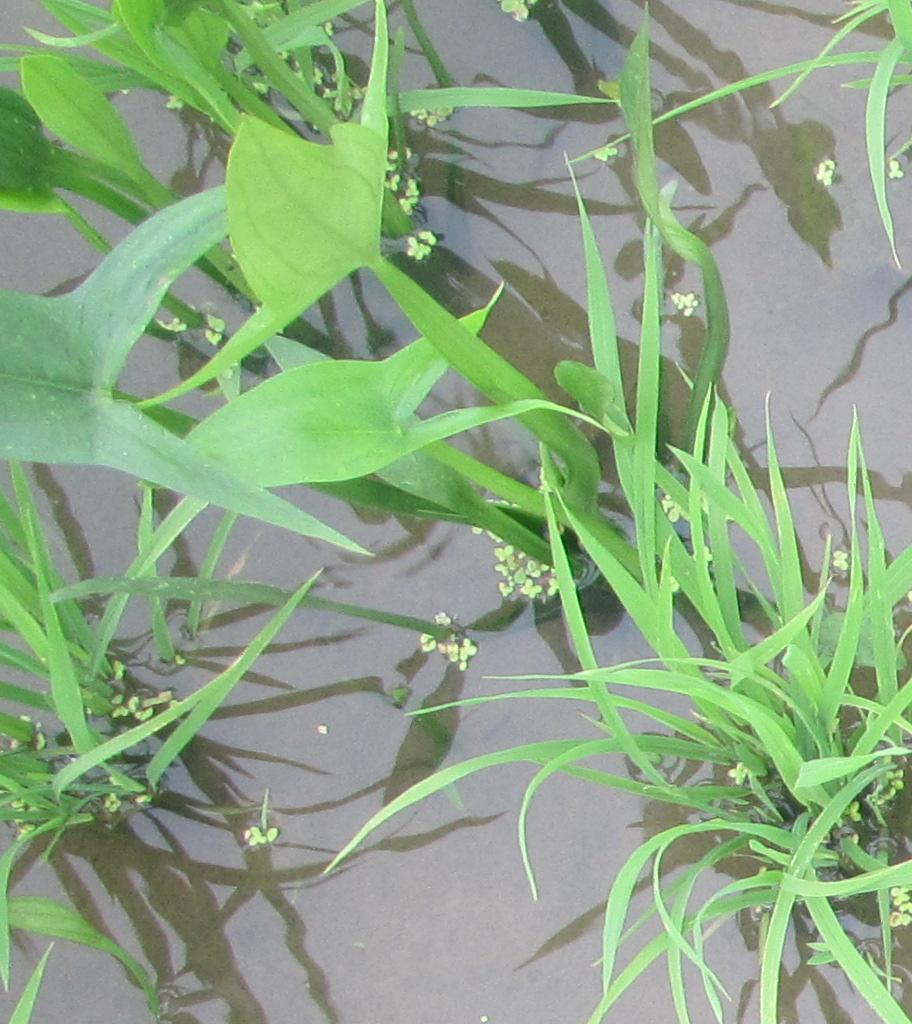Weed: (213, 99, 417, 505), (13, 8, 353, 155), (3, 266, 157, 472)
